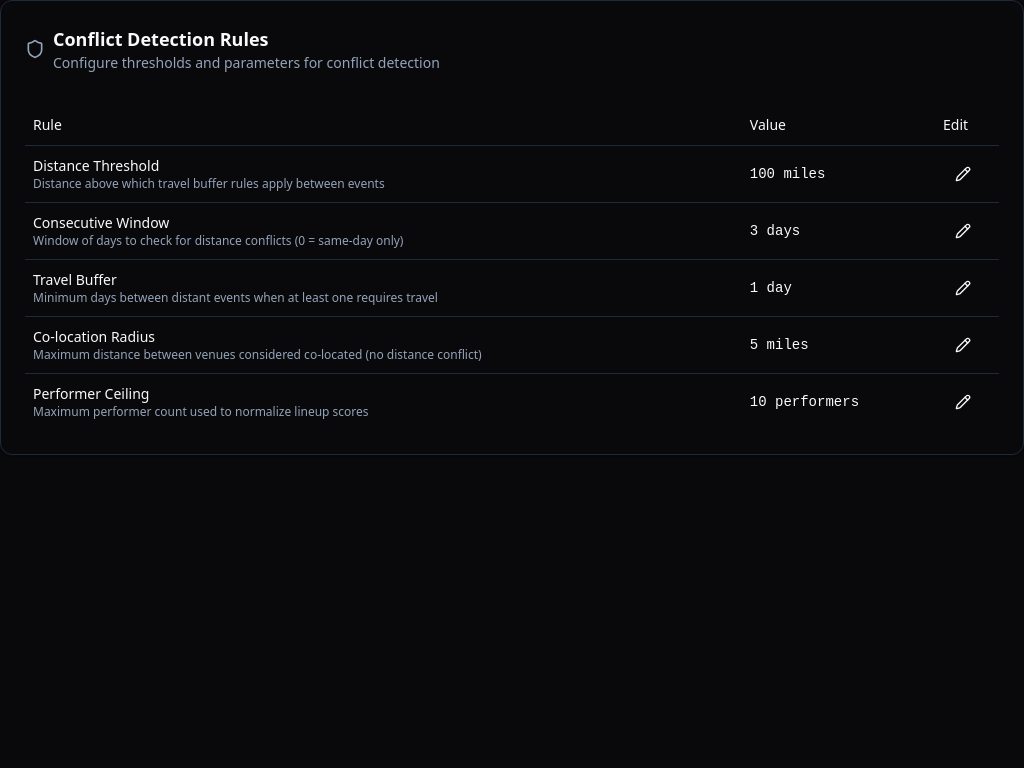
Test: ConflictRulesSection › shows validation error when value exceeds max
Click the button without text in the row of "Distance Threshold" at (963, 174), box x1=943 y1=154 x2=983 y2=194
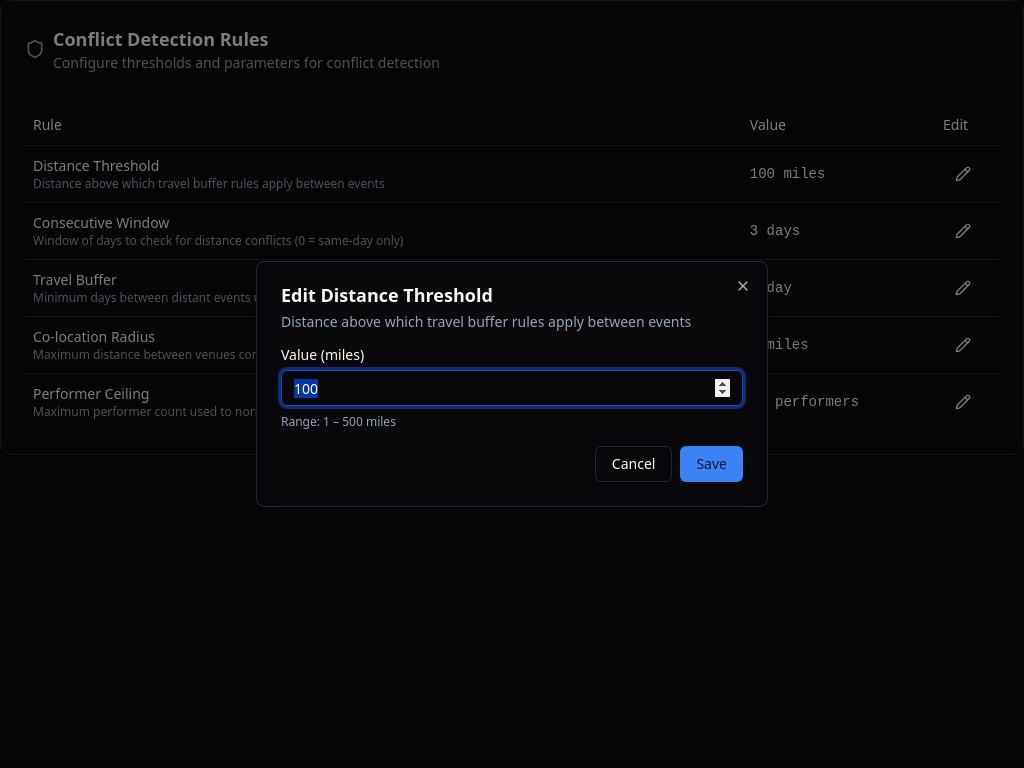
Replace the text in the number field labelled "Value (miles)" with "999" at (512, 388), box x1=281 y1=370 x2=743 y2=406
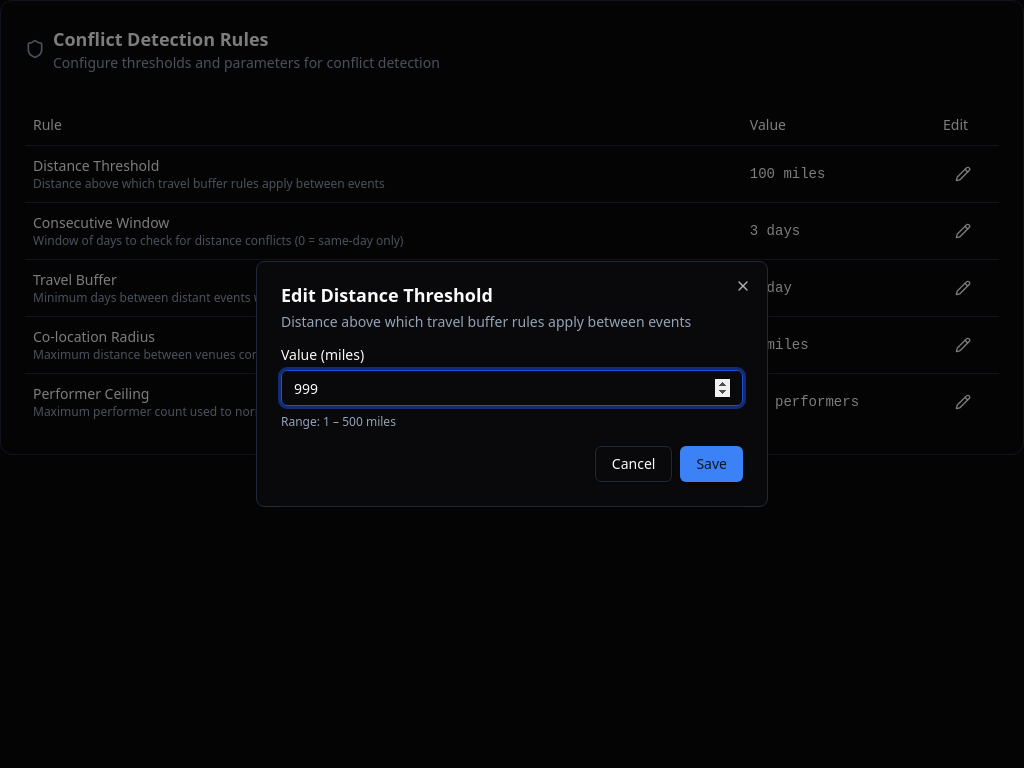
Click the button "Save" at (712, 464), box x1=680 y1=446 x2=743 y2=482
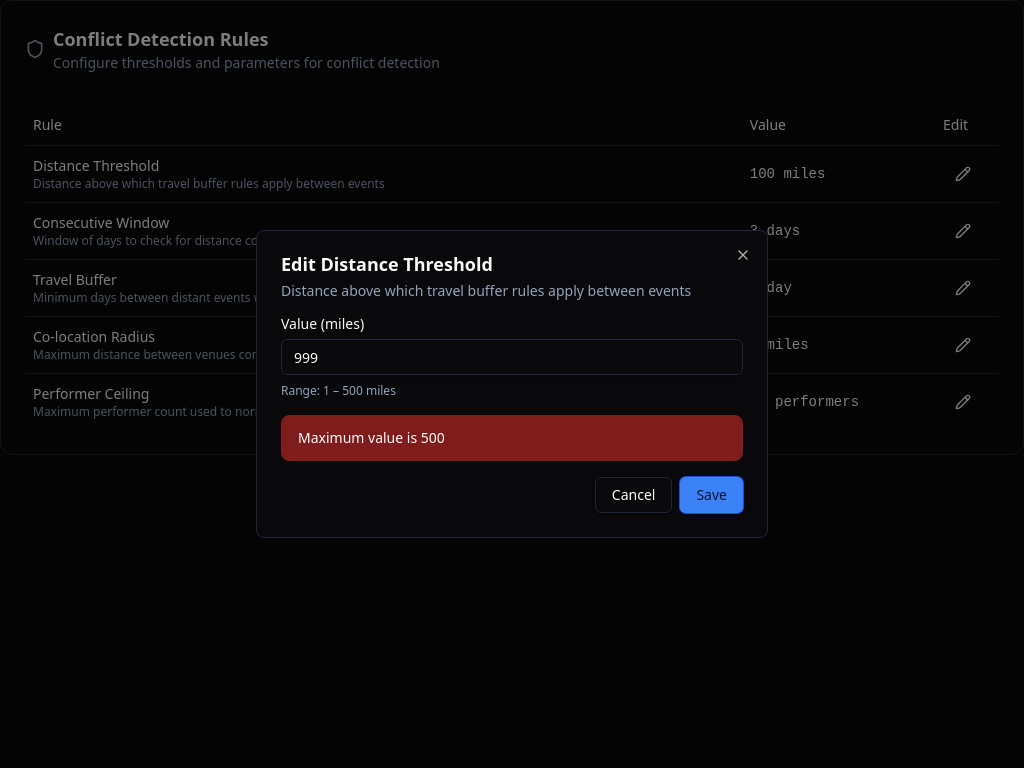
Result: the text "Maximum value is 500" is shown at x1=298 y1=428 x2=445 y2=447
